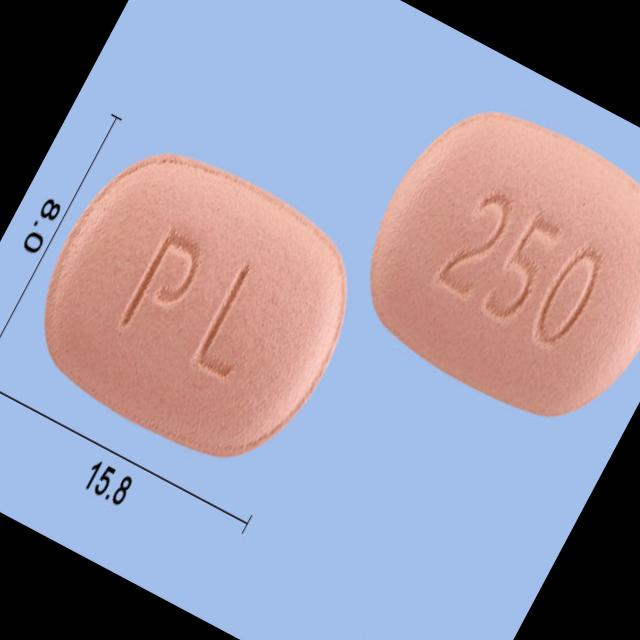Levoxacin: (5, 120, 386, 490), (331, 77, 640, 450)
